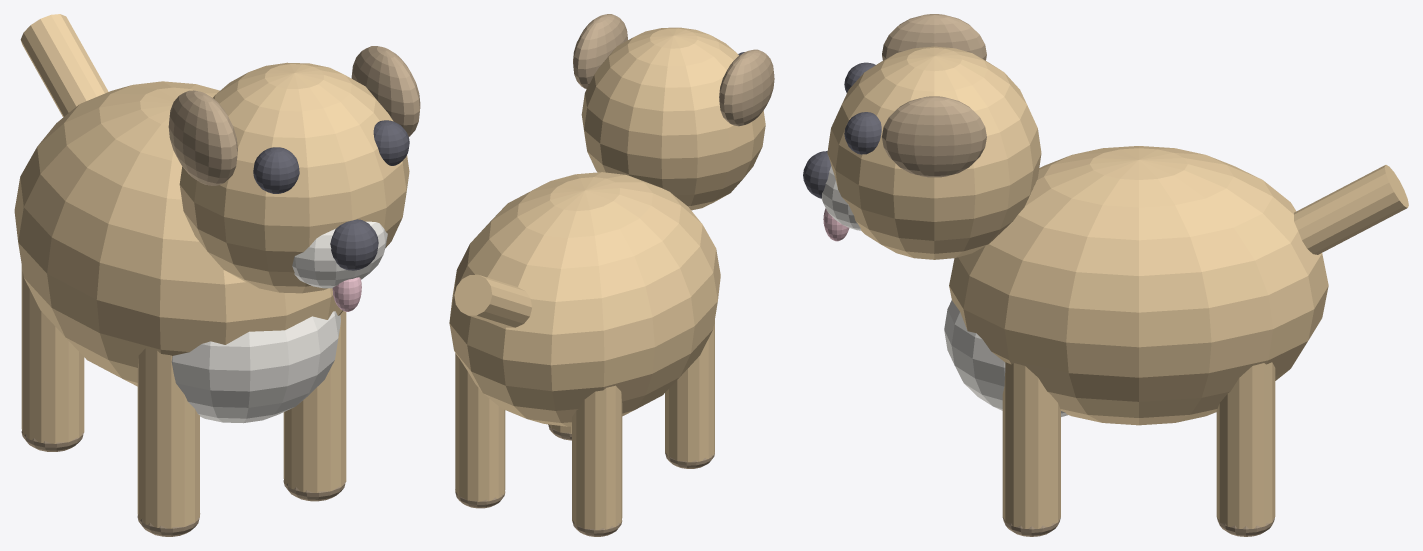
Rendered from dog.glb.
3 views of the same model, side by side, from view 1: azimuth 30°, elevation 25°; view 2: azimuth 150°, elevation 25°; view 3: azimuth 270°, elevation 25° (orthographic). The views are drawn at different scales.
Parts seen in each view (by area): view 1: DgTan, DgWhite, DgDark, DgPupil, DgPink; view 2: DgTan, DgDark; view 3: DgTan, DgDark, DgWhite, DgPupil.
Part boxes in pixels (x1=…): DgTan: x1=14, y1=14, x2=409, y2=528; DgWhite: x1=171, y1=221, x2=387, y2=423; DgDark: x1=21, y1=46, x2=420, y2=536; DgPupil: x1=253, y1=120, x2=409, y2=270; DgPink: x1=332, y1=277, x2=361, y2=311; DgTan: x1=449, y1=27, x2=765, y2=530; DgDark: x1=455, y1=14, x2=774, y2=536; DgTan: x1=827, y1=46, x2=1408, y2=528; DgDark: x1=882, y1=14, x2=1274, y2=536; DgWhite: x1=821, y1=166, x2=1067, y2=416; DgPupil: x1=803, y1=62, x2=881, y2=198.
Size of the model in its own units: 0.6 by 1.01 by 1.24.
